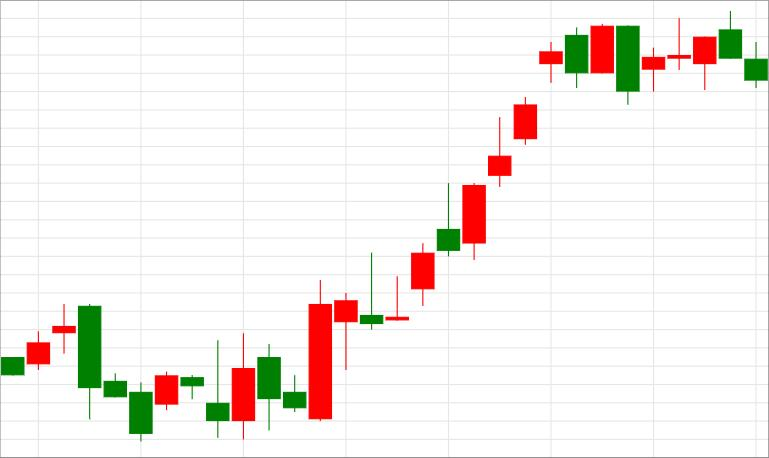bearish_engulfing_fall: (386, 28, 588, 321)
